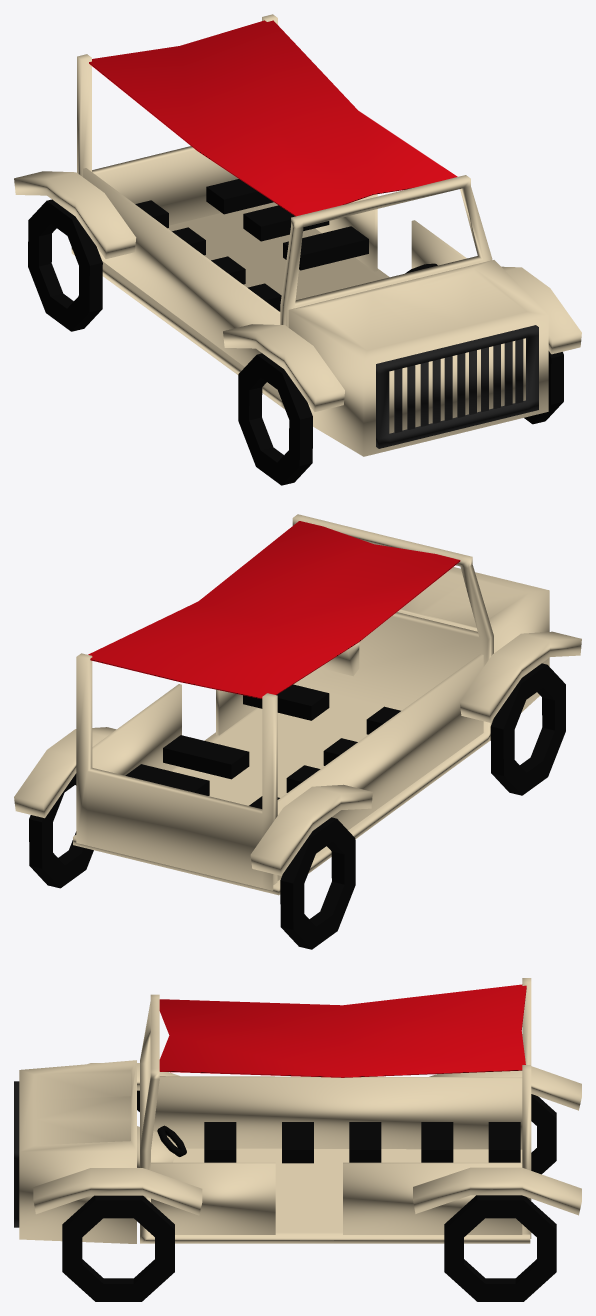
Rendered from Car.fbx.
The picture shows the model from 3 angles, top to bottom: view 1: azimuth 30°, elevation 25°; view 2: azimuth 150°, elevation 25°; view 3: azimuth 270°, elevation 25°; orthographic projection. The views are drawn at different scales.
Visible parts, largest first — view 1: car; view 2: car; view 3: car.
Boxes of the visible parts, x1=… form: car: x1=14, y1=14, x2=581, y2=485; car: x1=14, y1=514, x2=581, y2=949; car: x1=14, y1=978, x2=581, y2=1301.
Size of the model in its own units: 288 by 253 by 586.
